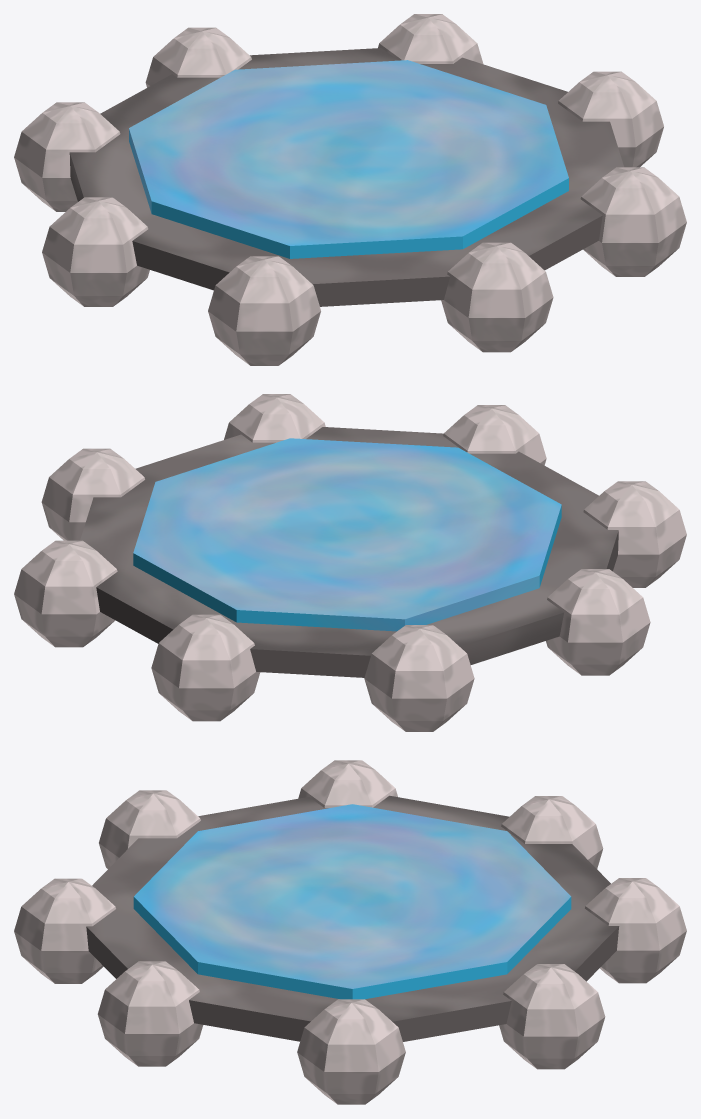
File: telepad.fbx
3 views of the same model, one above another, from view 1: azimuth 30°, elevation 25°; view 2: azimuth 150°, elevation 25°; view 3: azimuth 270°, elevation 25° (orthographic). The views are drawn at different scales.
Visible parts, largest first — view 1: Sphere.007; view 2: Sphere.007; view 3: Sphere.007.
Boxes of the visible parts, box(x1,y1,x2,y2) form: Sphere.007: box(14, 14, 686, 365); Sphere.007: box(14, 394, 686, 731); Sphere.007: box(14, 760, 686, 1104).
Bounding box in the file's own units: 350 × 57.6 × 356.
